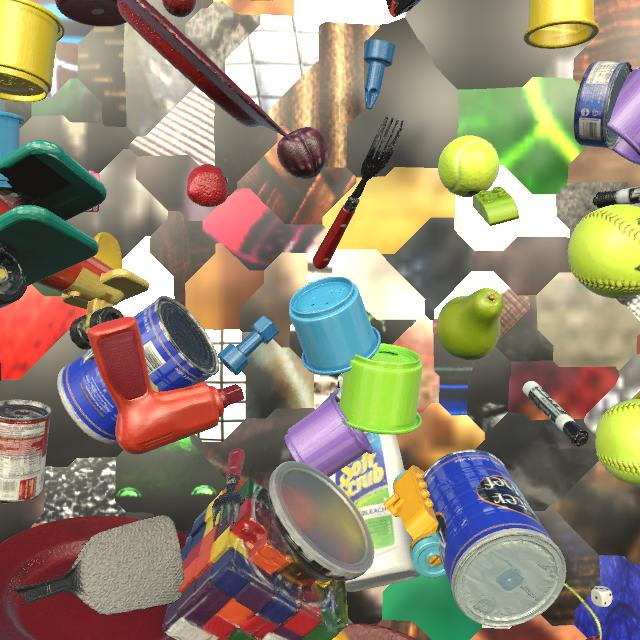ycb_002_master_chef_can: (423, 449, 566, 627), (57, 296, 219, 444)
ycb_005_tomato_soup_can: (0, 400, 52, 503)
ycb_007_tuna_fish_can: (574, 61, 633, 149)
ycb_008_pudding_box: (252, 0, 258, 1)
ycb_012_strawberry: (187, 164, 229, 207)
ycb_015_peach: (332, 630, 351, 640)
ycb_016_pear: (437, 288, 503, 360)
ycb_018_plum: (277, 127, 328, 179)
